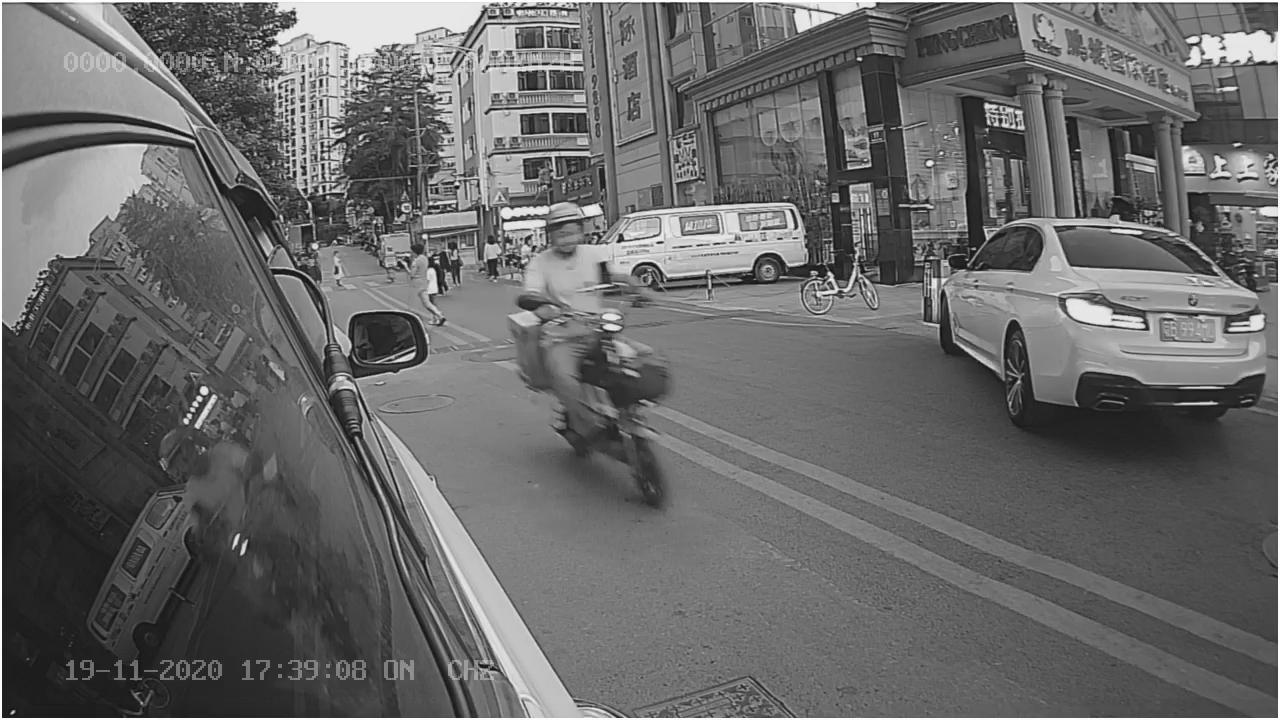person: (513, 205, 615, 346)
